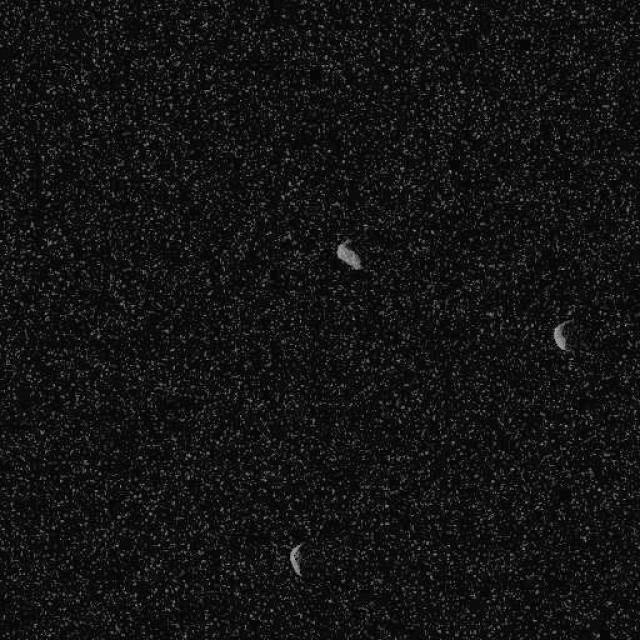D2: (334, 240, 364, 271), (288, 540, 306, 578), (552, 318, 572, 352)
